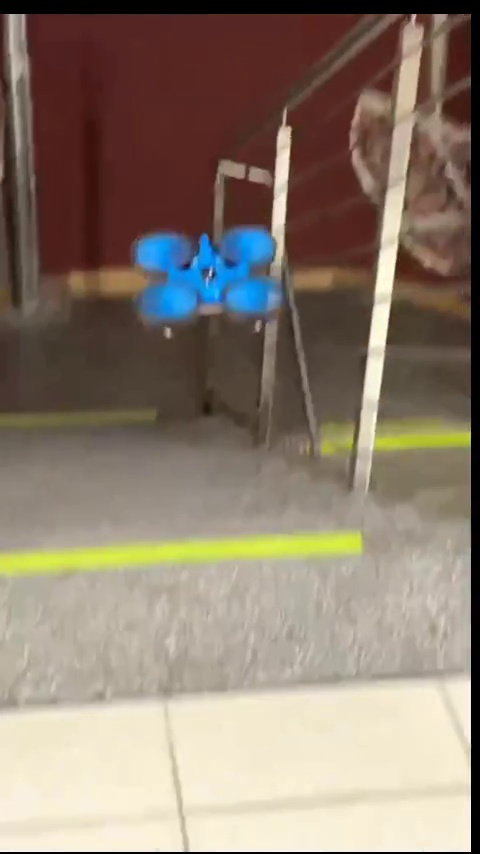drone: (132, 231, 283, 337)
